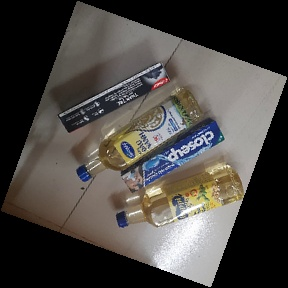CloseUp Tuyet: (119, 117, 226, 193)
Colgate Than: (58, 60, 172, 133)
Happy Soya: (113, 163, 244, 232)
Simply: (74, 87, 202, 186)
